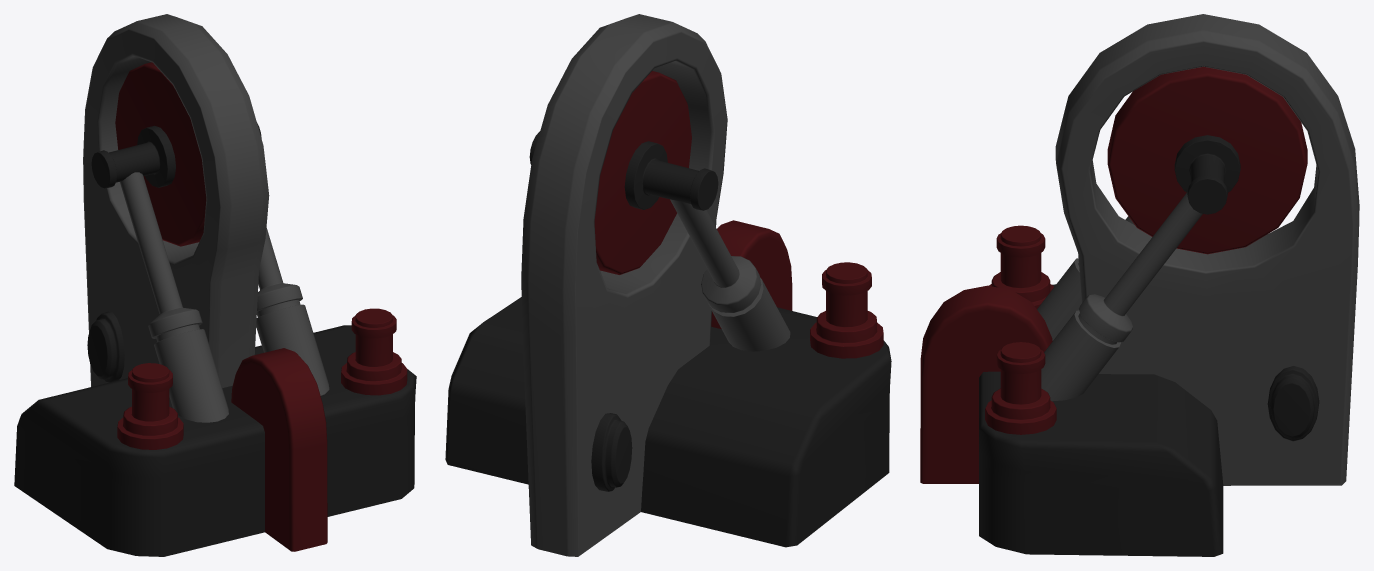
Rendered from colony_Geothermal_generator.glb.
The picture shows the model from 3 angles, left to right: view 1: azimuth 30°, elevation 25°; view 2: azimuth 150°, elevation 25°; view 3: azimuth 270°, elevation 25°; orthographic projection. The views are drawn at different scales.
Parts seen in each view (by area): view 1: Geothermal_generator; view 2: Geothermal_generator; view 3: Geothermal_generator.
Boxes of the visible parts, box(x1,y1,x2,y2) form: Geothermal_generator: box(14, 14, 416, 556); Geothermal_generator: box(445, 14, 891, 556); Geothermal_generator: box(920, 14, 1359, 556).
Bounding box in the file's own units: 330 × 422 × 371.
1 material, 1 textured.
